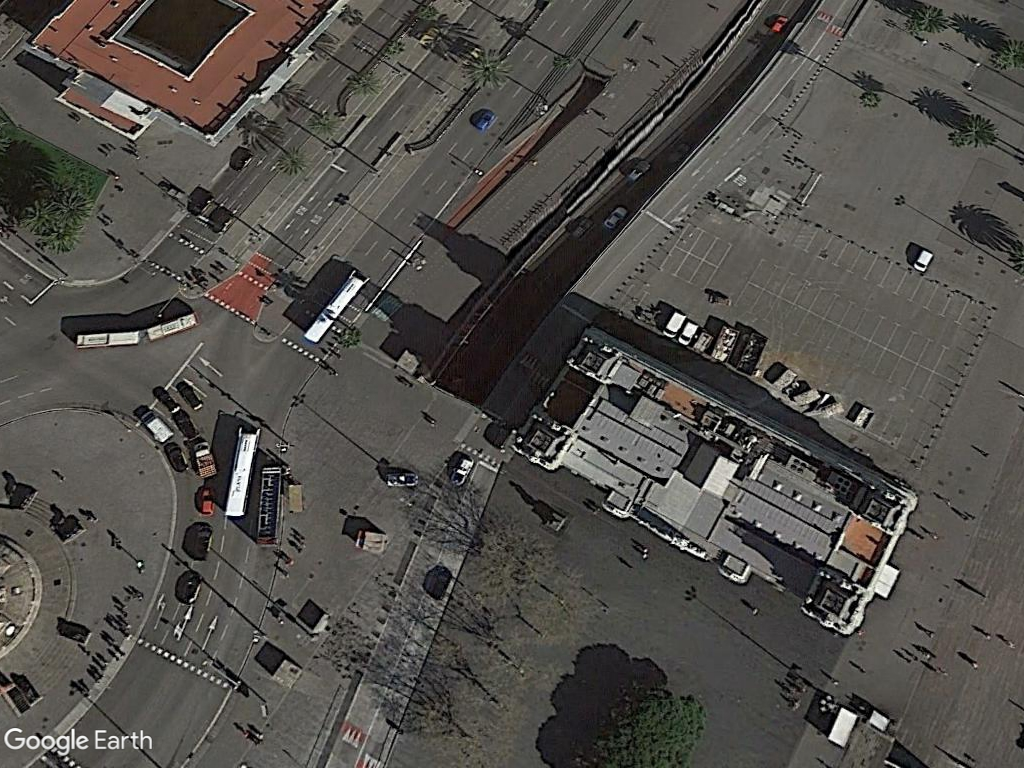bus: (226, 419, 259, 520), (144, 308, 208, 343), (69, 330, 145, 352)
